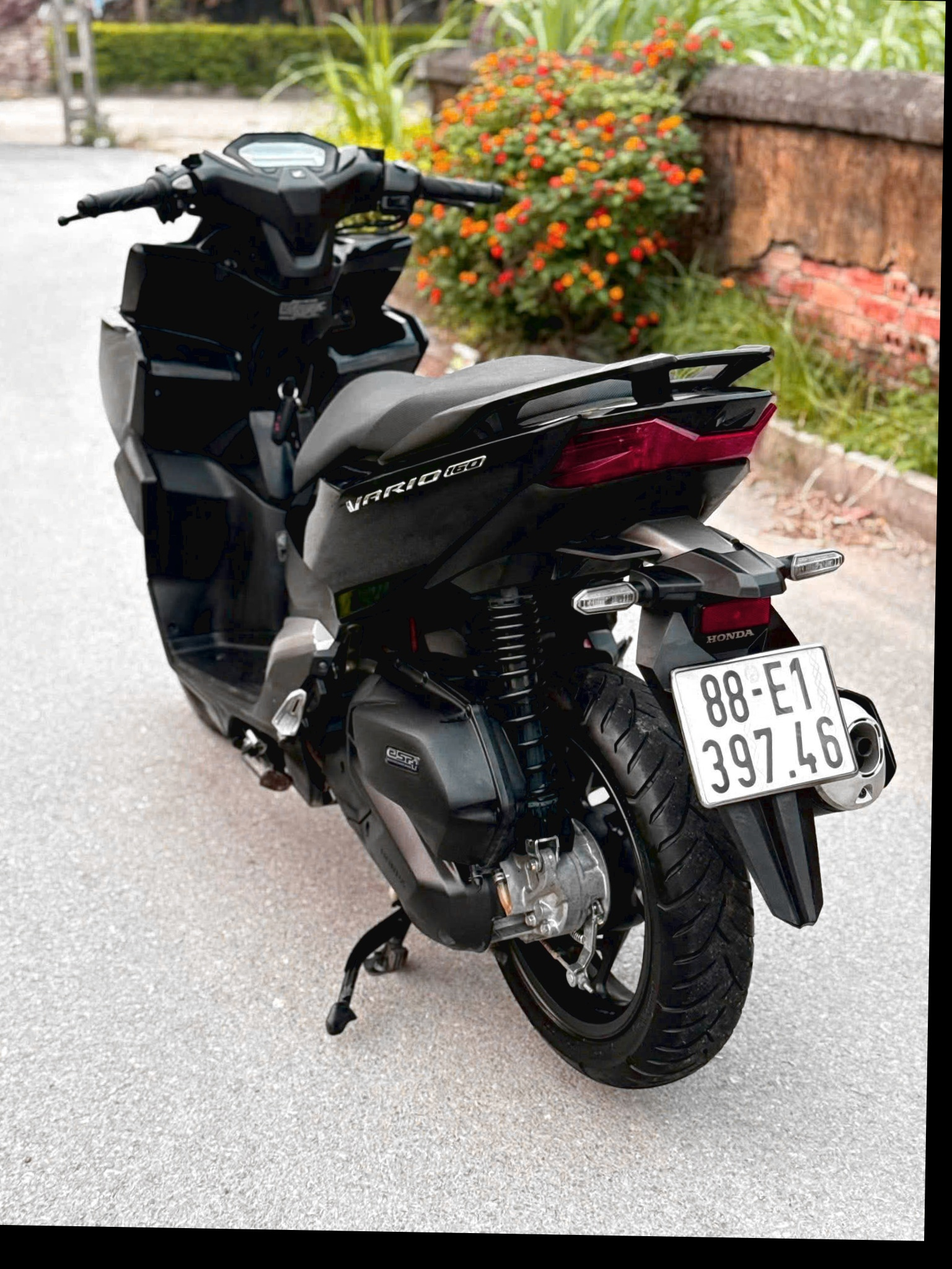Bien-so: (687, 678, 897, 857)
